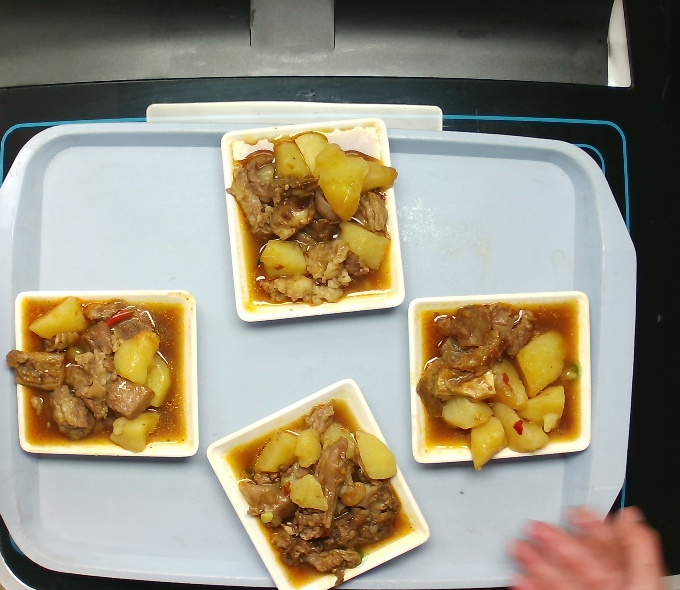wcq-TuDouNiuNan: (227, 398, 421, 590), (229, 124, 402, 316), (6, 292, 192, 458), (417, 298, 583, 469)
